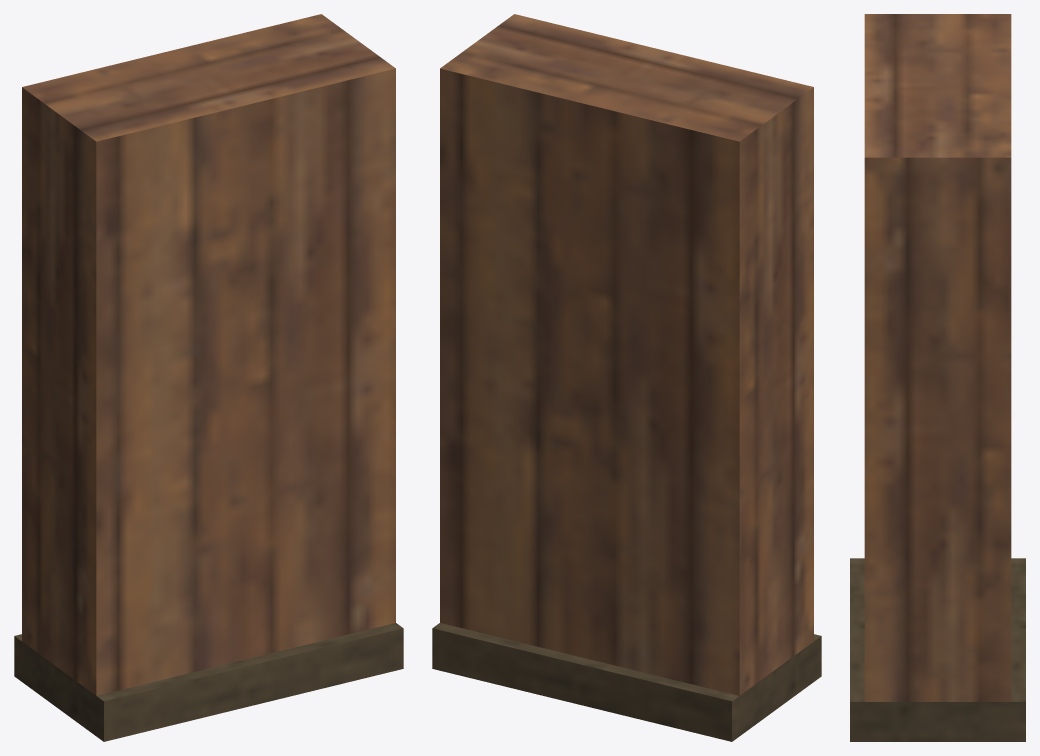
File: MS_3mWall_Door.fbx
The picture shows the model from 3 angles, left to right: view 1: azimuth 30°, elevation 25°; view 2: azimuth 150°, elevation 25°; view 3: azimuth 270°, elevation 25°; orthographic projection.
Parts seen in each view (by area): view 1: Cube; view 2: Cube; view 3: Cube.
Boxes of the visible parts, x1,y1,x2,y2 form: Cube: [14, 14, 403, 741]; Cube: [432, 14, 821, 741]; Cube: [850, 14, 1025, 741].
Size of the model in its own units: 116 by 220 by 60.
